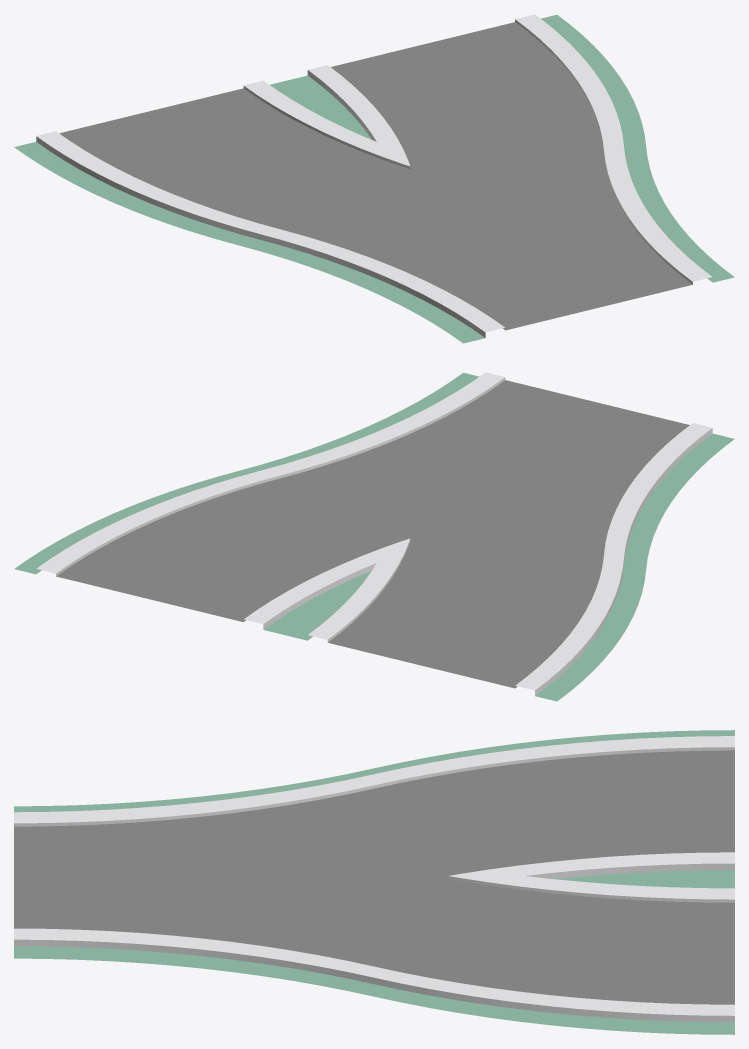
The model's file is roadCurvedSplit.glb.
3 renders of one model, top to bottom at view 1: azimuth 30°, elevation 25°; view 2: azimuth 150°, elevation 25°; view 3: azimuth 270°, elevation 25°, orthographic. The views are drawn at different scales.
Visible parts, largest first — view 1: roadCurvedSplit(Clone); view 2: roadCurvedSplit(Clone); view 3: roadCurvedSplit(Clone).
Boxes of the visible parts, bbox=[...] form: roadCurvedSplit(Clone): bbox=[14, 14, 734, 343]; roadCurvedSplit(Clone): bbox=[14, 372, 734, 701]; roadCurvedSplit(Clone): bbox=[14, 730, 734, 1034].
Size of the model in its own units: 2 by 0.02 by 2.
